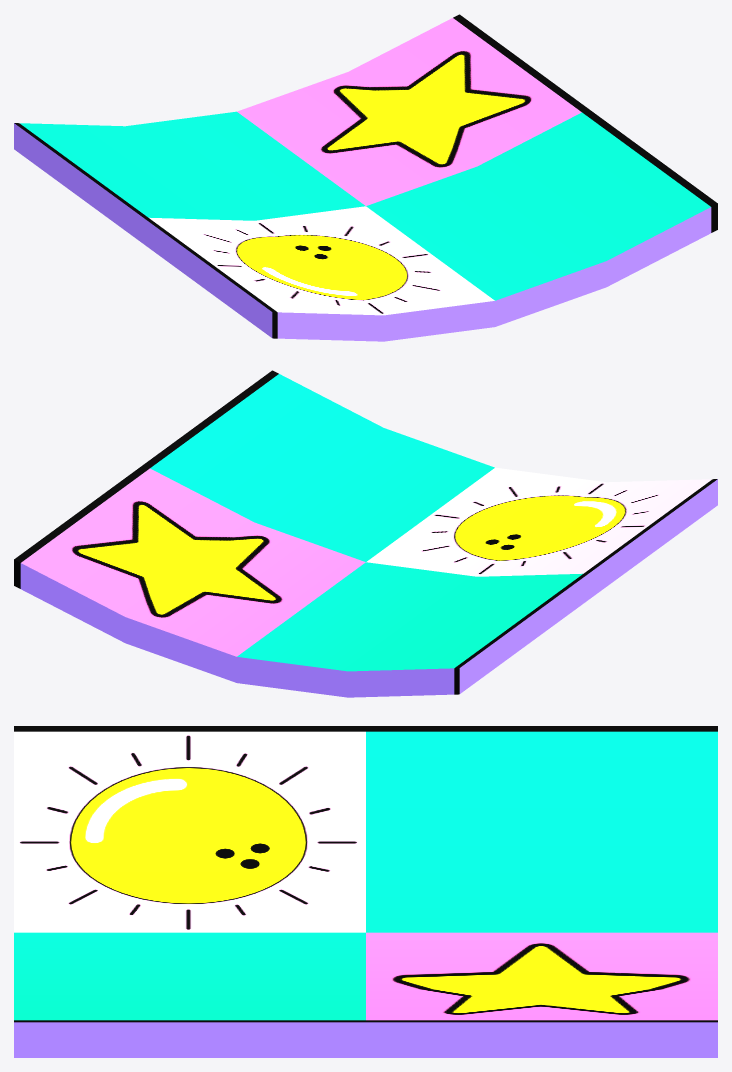
The model's file is cocobay_floor_dpath.gltf.
The picture shows the model from 3 angles, top to bottom: view 1: azimuth 30°, elevation 25°; view 2: azimuth 150°, elevation 25°; view 3: azimuth 270°, elevation 25°; orthographic projection. The views are drawn at different scales.
Parts seen in each view (by area): view 1: cocobay_floor_dpath_glb; view 2: cocobay_floor_dpath_glb; view 3: cocobay_floor_dpath_glb.
Part boxes in pixels (left/top/right/bottom): cocobay_floor_dpath_glb: left=14, top=14, right=717, bottom=341; cocobay_floor_dpath_glb: left=14, top=370, right=717, bottom=697; cocobay_floor_dpath_glb: left=14, top=726, right=717, bottom=1057.
Size of what is drawn, in the model's own units: 3.98 by 0.591 by 4.
2 materials, 2 textured.
